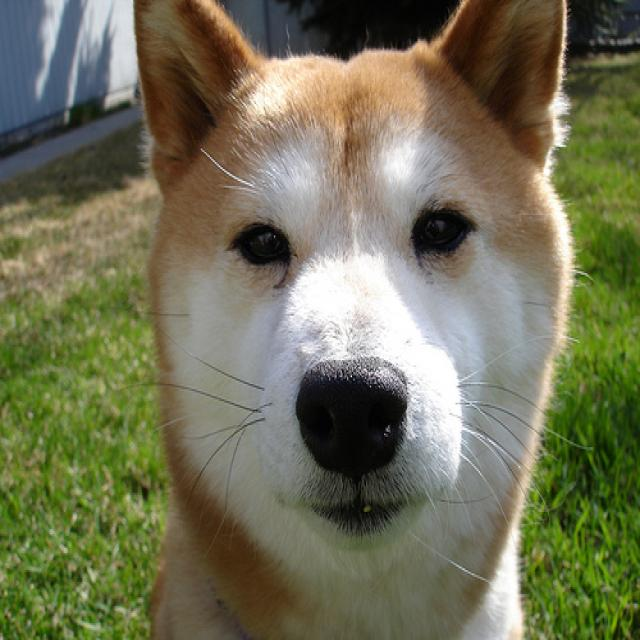dog-shiba_inu: (120, 2, 588, 637)
